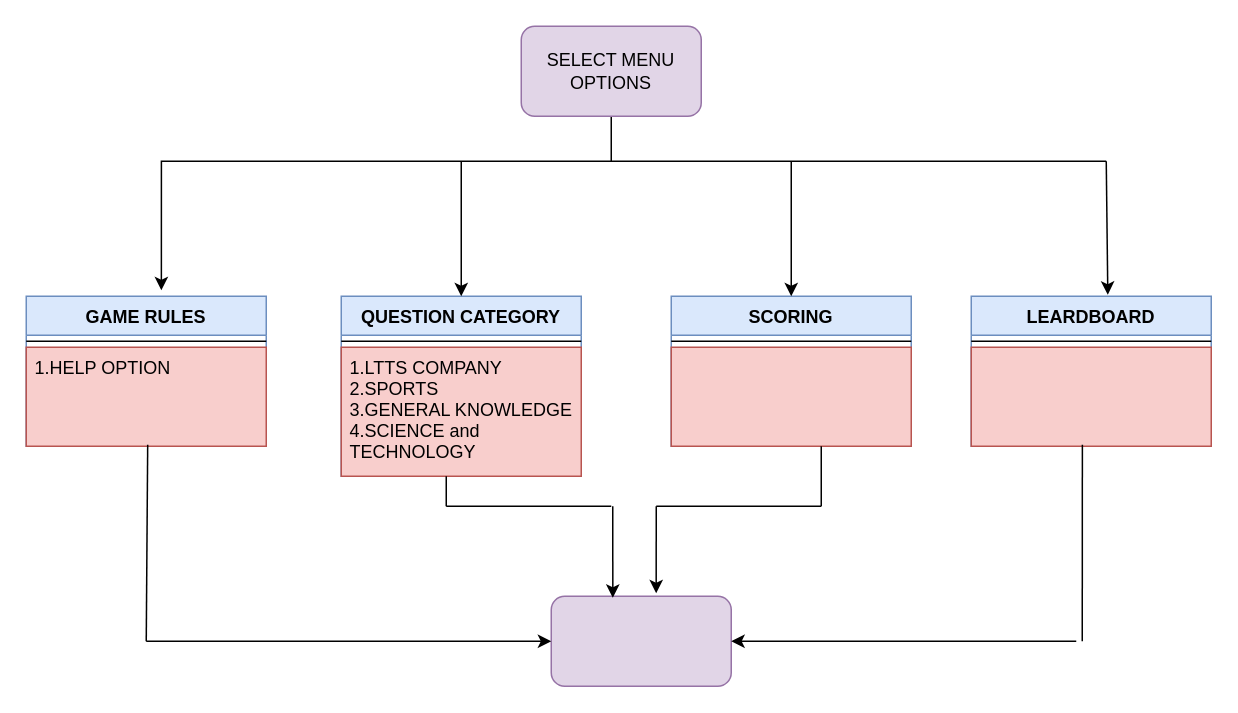
Some shapes in this 1238 by 713 pixel diagram are drawn without their labels. The centre of each missing label's shape, as x and y in pixels:
"1.EDIT 2.SET 3.RESET" goes at (790,396).
"1.HIGH SCORE 2.LOW SCORE" goes at (1090,396).
"EXIT" goes at (640,640).
